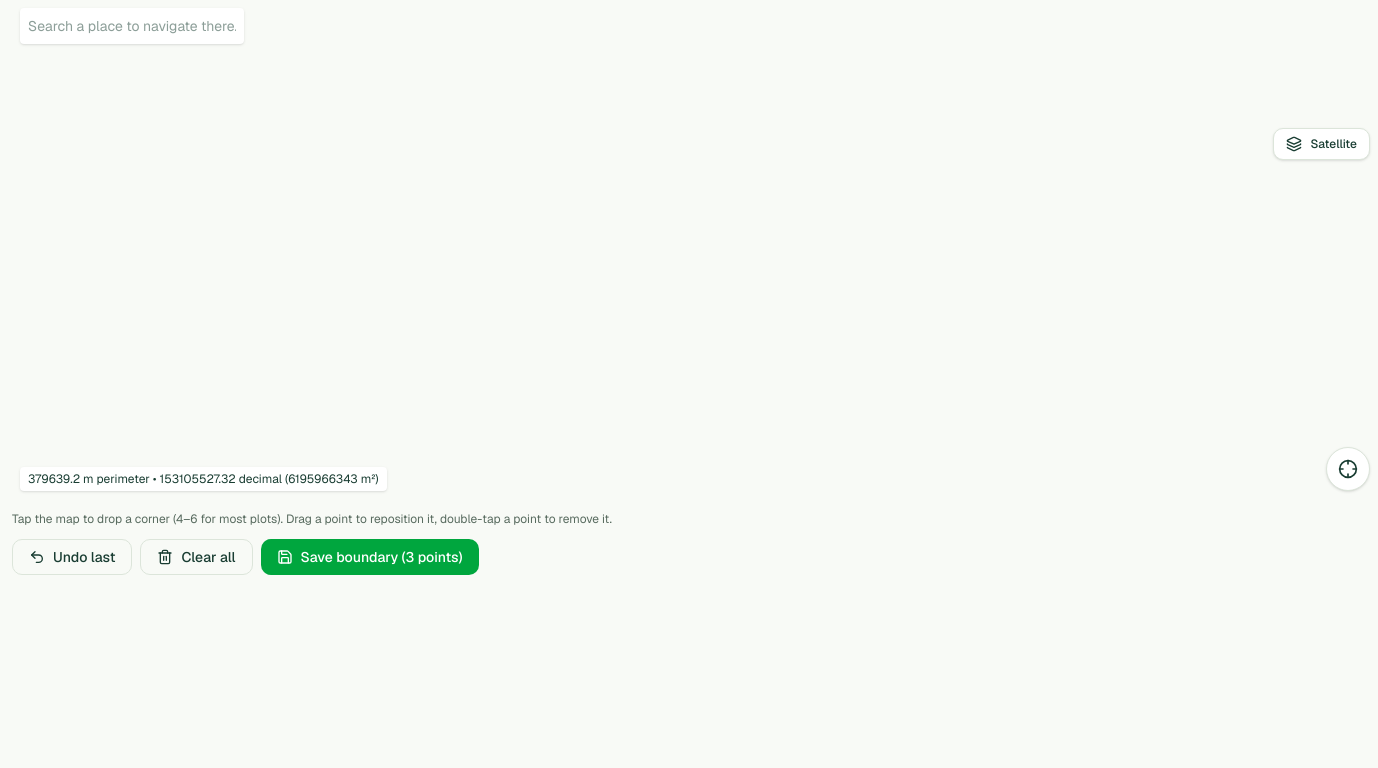
it: ManualBoundaryDrawer — save flow › shows the error and does not refresh when saving fails
Click the button "Save boundary (3 points)": click(370, 557) x1=260 y1=539 x2=479 y2=575
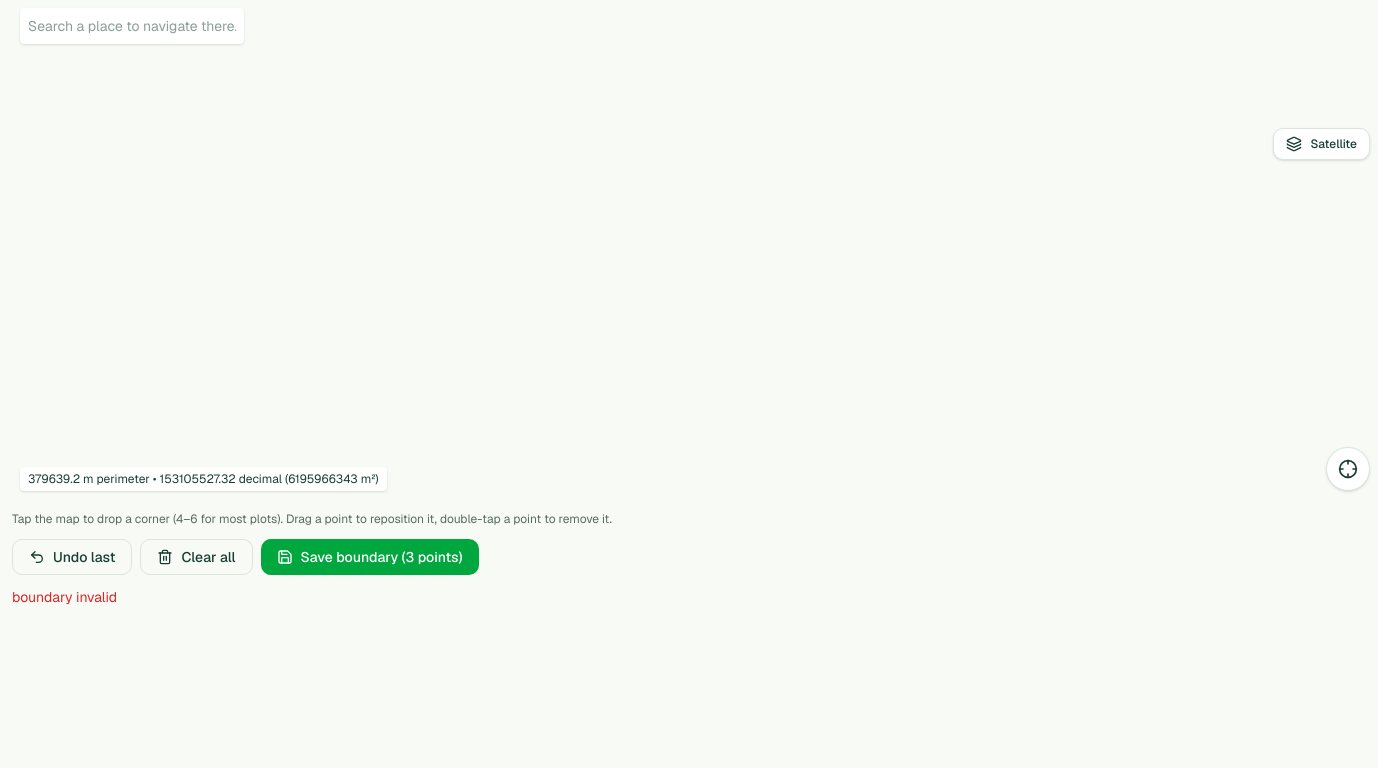
expect the text "boundary invalid" is shown: met, box x1=12 y1=588 x2=117 y2=606
